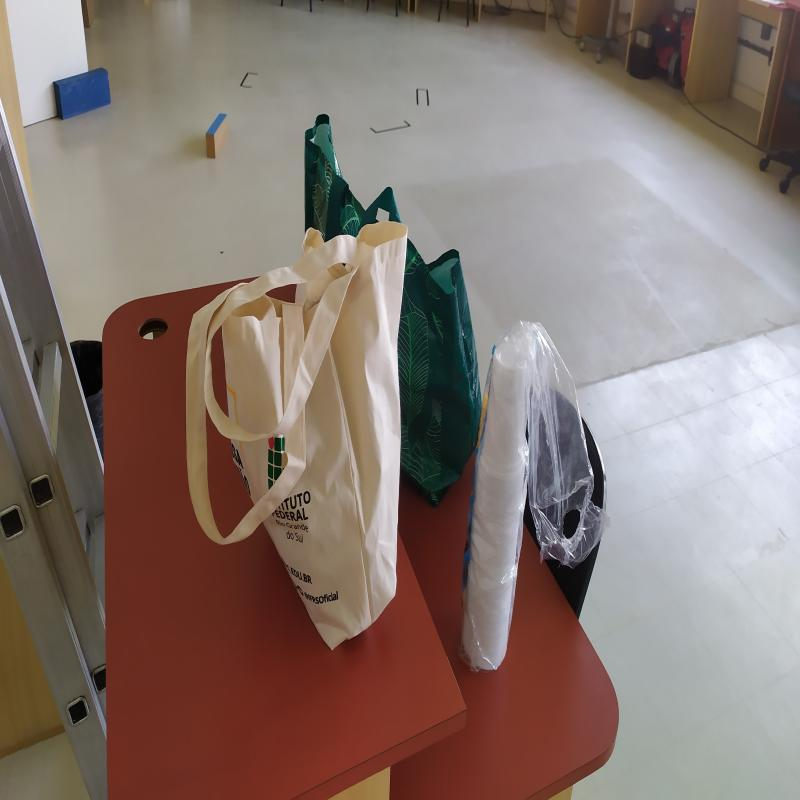Bag: (185, 220, 412, 656), (302, 108, 481, 511)
